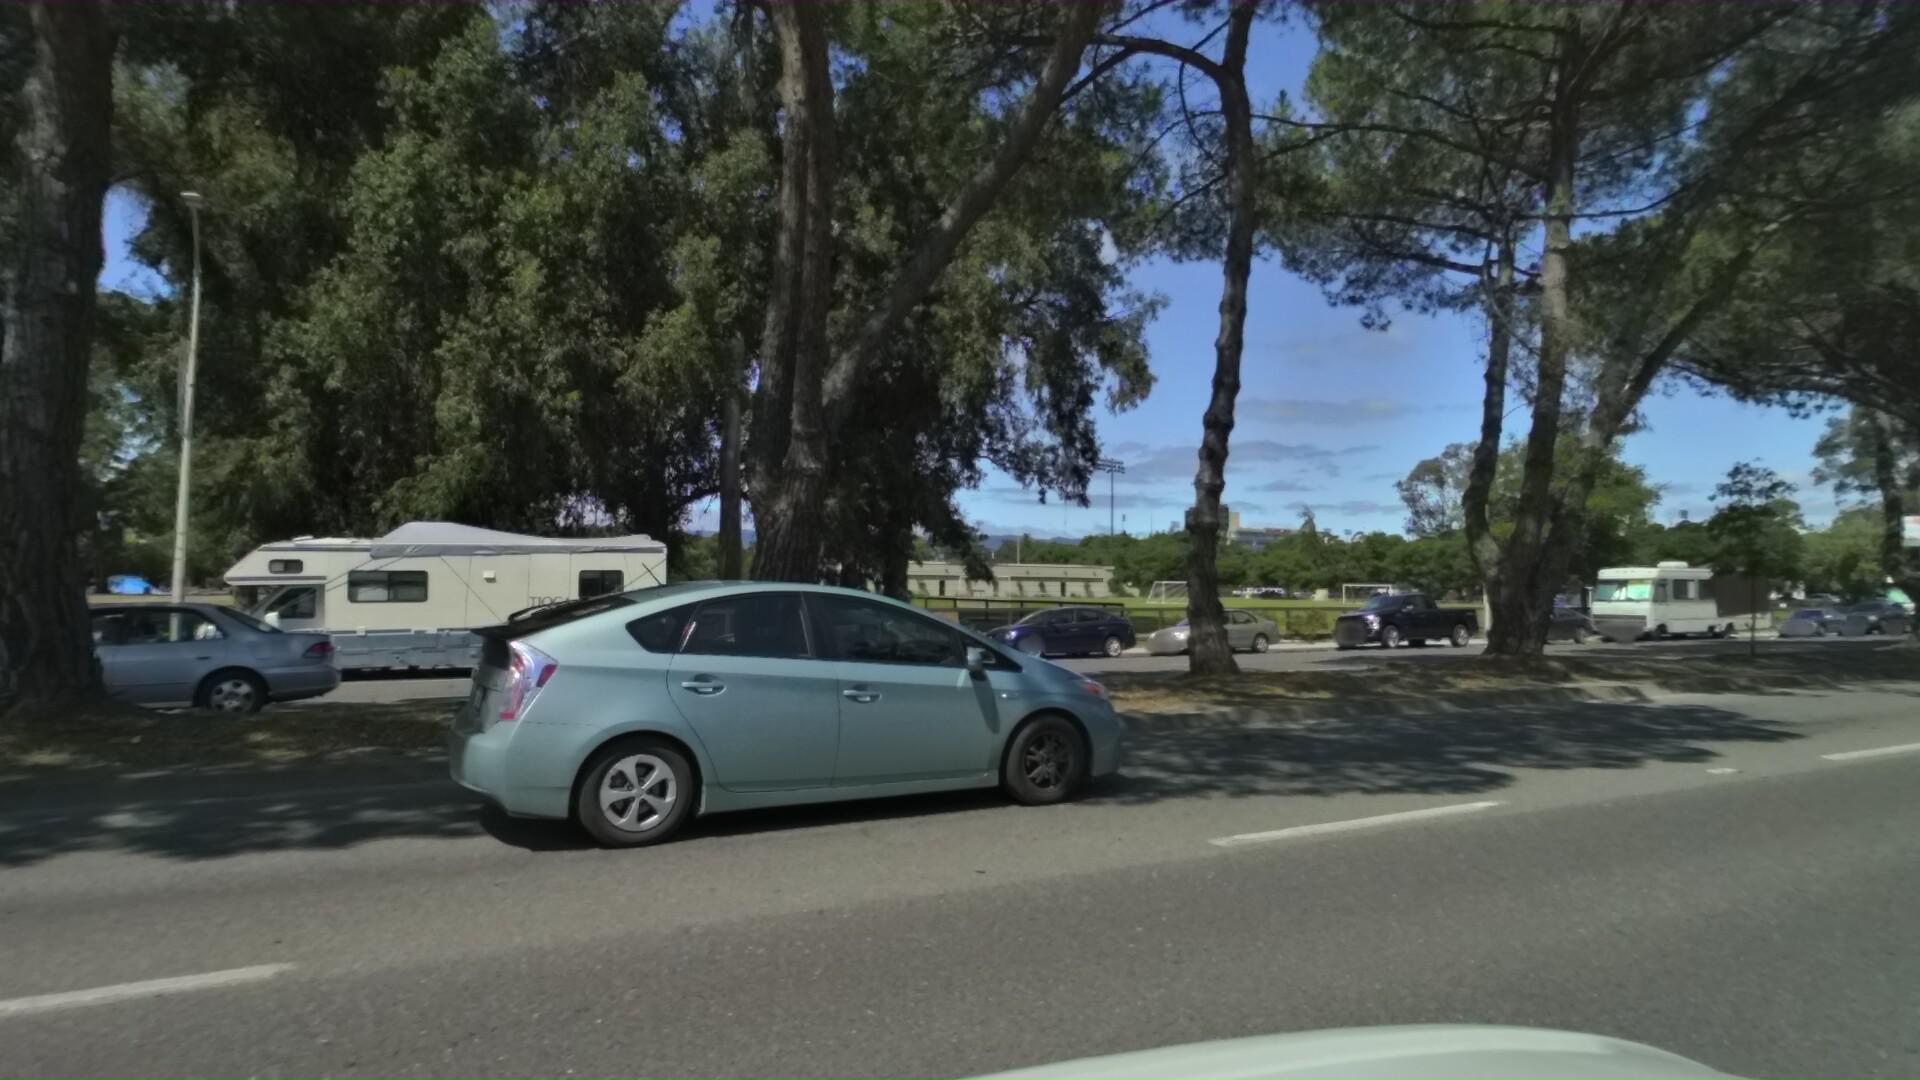car: (426, 554, 1158, 874), (0, 579, 255, 761), (0, 601, 149, 708), (951, 597, 1129, 663), (1302, 585, 1473, 646), (1120, 599, 1271, 657), (1461, 595, 1586, 646), (1818, 584, 1904, 629), (1753, 597, 1840, 632)
other_vehicle: (146, 506, 659, 696), (1563, 549, 1764, 638), (1861, 554, 1920, 626)
